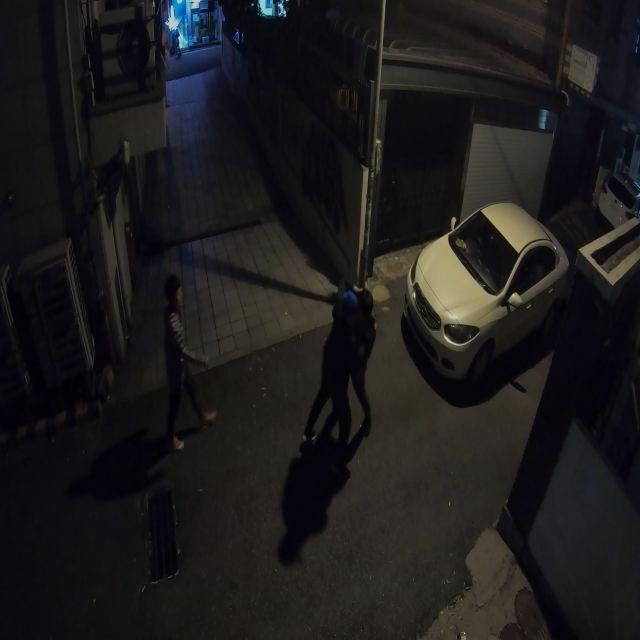fight: (300, 273, 386, 464)
non-fight: (155, 274, 217, 454)
